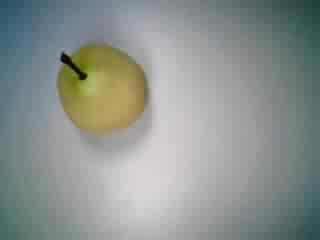pear: (42, 31, 152, 137)
